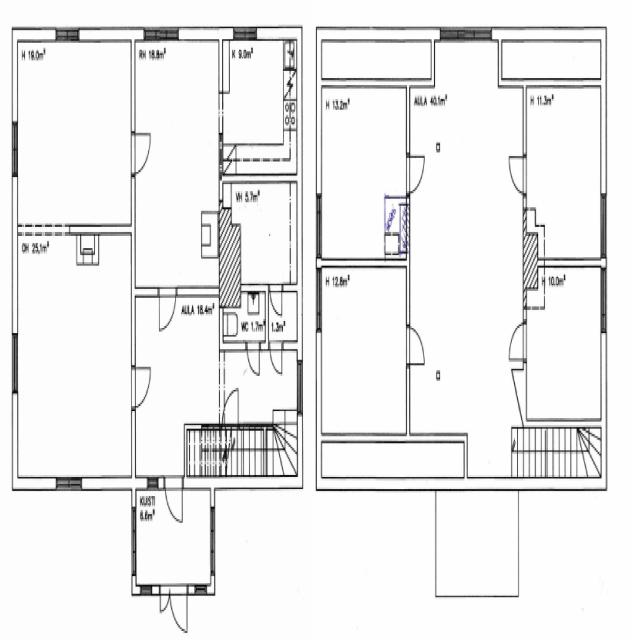door: (165, 477, 182, 531), (131, 367, 153, 407), (132, 133, 153, 174), (170, 585, 187, 635), (406, 326, 426, 364), (406, 156, 426, 193), (159, 288, 175, 333), (222, 388, 238, 429), (508, 323, 526, 358), (508, 157, 526, 192), (269, 284, 282, 319), (247, 342, 259, 378), (270, 342, 282, 376), (160, 586, 170, 618)
